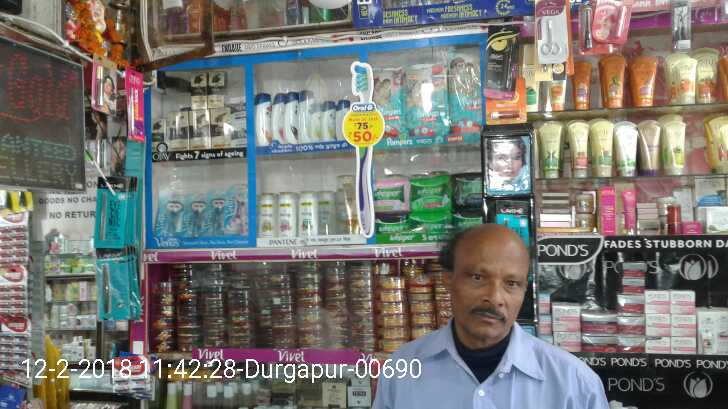venus: (224, 183, 248, 235), (160, 193, 184, 231), (184, 193, 207, 231), (207, 193, 224, 235)
